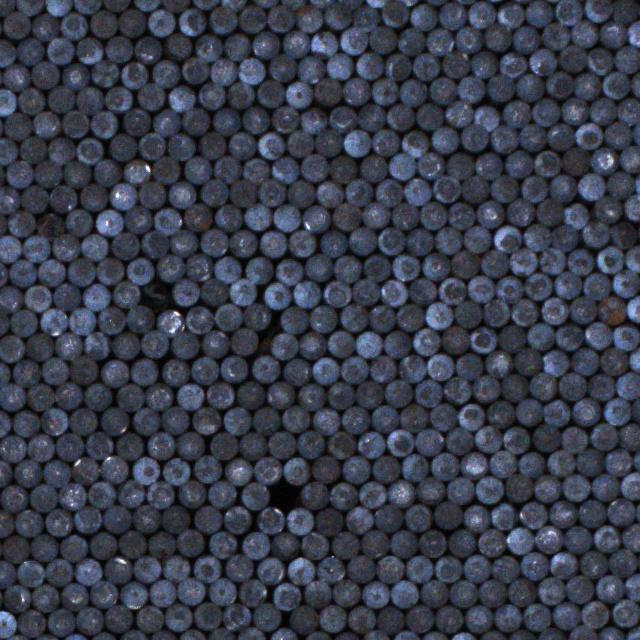tool: (488, 449, 516, 477), (376, 554, 404, 582), (433, 174, 461, 202), (176, 577, 204, 605), (329, 104, 357, 132), (176, 528, 204, 556), (608, 550, 636, 578), (86, 431, 114, 459), (572, 396, 600, 424), (518, 500, 546, 528), (71, 355, 99, 383), (476, 199, 504, 227), (590, 473, 618, 501), (117, 529, 145, 557), (396, 303, 424, 331), (54, 332, 82, 360), (214, 204, 242, 232), (102, 556, 130, 584), (55, 433, 83, 461), (126, 304, 154, 332), (200, 228, 228, 256), (490, 554, 518, 582), (192, 406, 220, 434), (592, 195, 620, 223), (566, 574, 594, 602), (48, 86, 76, 114), (236, 380, 264, 408), (268, 431, 296, 459), (377, 227, 405, 255), (373, 503, 401, 531), (608, 498, 636, 526), (398, 404, 426, 432), (194, 454, 222, 482), (328, 431, 356, 459), (329, 482, 357, 510), (201, 278, 229, 306), (374, 178, 402, 206), (478, 579, 505, 607), (383, 378, 410, 406), (508, 578, 535, 606), (301, 155, 329, 182), (466, 275, 493, 303), (484, 24, 511, 52), (429, 404, 456, 432), (223, 408, 250, 436), (399, 78, 426, 106), (584, 322, 611, 350), (20, 136, 47, 164), (230, 327, 258, 354), (368, 26, 396, 53), (29, 533, 56, 561), (118, 8, 145, 36), (102, 506, 129, 534), (430, 452, 457, 480), (39, 308, 66, 336), (140, 331, 168, 358), (536, 525, 563, 553), (450, 249, 477, 277), (15, 510, 42, 538), (219, 354, 246, 382), (45, 558, 72, 586), (255, 456, 282, 484), (476, 477, 504, 504), (163, 504, 190, 532), (324, 278, 351, 306), (75, 506, 102, 534), (196, 504, 223, 532), (523, 602, 550, 630), (215, 304, 242, 332), (447, 201, 474, 229), (414, 429, 442, 456), (88, 482, 116, 509), (184, 202, 211, 230), (334, 203, 362, 230), (530, 97, 557, 125), (416, 478, 444, 505), (350, 278, 377, 306), (460, 125, 488, 152), (414, 103, 442, 130), (478, 529, 506, 556), (29, 484, 56, 512), (166, 85, 194, 112), (505, 149, 532, 177), (489, 173, 516, 201), (112, 332, 140, 359), (357, 480, 384, 508), (391, 581, 418, 609), (210, 578, 237, 606), (441, 327, 468, 355), (414, 379, 441, 407), (34, 161, 61, 189), (452, 300, 480, 327), (6, 160, 33, 188), (90, 580, 117, 608), (186, 254, 214, 281), (398, 354, 425, 382), (315, 129, 342, 157), (328, 330, 355, 358), (448, 528, 475, 556), (454, 351, 482, 378), (175, 432, 203, 459), (601, 346, 628, 374), (309, 304, 336, 332), (574, 449, 602, 476), (358, 104, 386, 131), (512, 25, 539, 53), (439, 277, 466, 305), (554, 324, 582, 351), (105, 604, 132, 632), (295, 5, 322, 33), (25, 332, 52, 360), (289, 604, 316, 632), (613, 269, 640, 297), (492, 225, 519, 253), (528, 372, 556, 399), (0, 536, 28, 563), (603, 122, 630, 150), (62, 160, 90, 187), (584, 271, 611, 299), (201, 330, 228, 358), (572, 73, 599, 101), (460, 174, 487, 202), (140, 231, 167, 259), (559, 373, 586, 401), (190, 356, 217, 384), (3, 12, 30, 40), (354, 380, 381, 408), (324, 1, 352, 28), (257, 79, 285, 106), (153, 108, 180, 136), (59, 536, 87, 563), (435, 501, 462, 529), (149, 530, 176, 558), (162, 554, 190, 581), (560, 148, 588, 175), (606, 170, 634, 197), (608, 220, 636, 247), (538, 578, 565, 605), (468, 0, 495, 27), (561, 474, 588, 501), (406, 554, 433, 581), (439, 1, 466, 28), (198, 131, 225, 158), (340, 27, 367, 54), (450, 581, 477, 608), (101, 456, 128, 483), (334, 580, 361, 607), (38, 260, 65, 287), (215, 156, 242, 183), (231, 278, 258, 305), (23, 284, 50, 311), (149, 580, 176, 607), (132, 506, 159, 533), (175, 383, 202, 410), (409, 4, 436, 31), (386, 479, 413, 506), (523, 272, 550, 299), (431, 127, 458, 154), (344, 178, 371, 205), (456, 404, 483, 431), (68, 308, 95, 335), (241, 105, 268, 132), (503, 99, 530, 126), (253, 407, 280, 434), (355, 53, 382, 80), (148, 8, 175, 35), (595, 575, 622, 602), (208, 5, 235, 32), (416, 153, 443, 180), (133, 457, 160, 484), (120, 582, 147, 609), (271, 105, 298, 132), (426, 302, 453, 329), (147, 482, 174, 509), (55, 382, 82, 409), (273, 582, 300, 609), (243, 531, 270, 558), (480, 249, 507, 276), (575, 123, 602, 150), (332, 532, 359, 559), (95, 258, 122, 285), (550, 499, 577, 526), (542, 22, 569, 49), (135, 604, 162, 631), (348, 228, 375, 255), (196, 601, 223, 628), (94, 160, 121, 187), (580, 550, 607, 577), (58, 483, 85, 510), (17, 37, 44, 64), (341, 406, 368, 433), (586, 48, 613, 75), (406, 604, 433, 631), (605, 448, 632, 475), (230, 180, 257, 207), (80, 183, 107, 210), (70, 409, 97, 436), (228, 554, 255, 581), (334, 255, 361, 282), (298, 431, 325, 458), (523, 223, 550, 250), (71, 457, 98, 484), (592, 525, 619, 552), (255, 602, 282, 629), (124, 205, 151, 232), (341, 77, 368, 104), (95, 208, 122, 235), (582, 600, 609, 627), (533, 424, 560, 451), (110, 182, 137, 209), (73, 558, 100, 585), (144, 382, 171, 409), (161, 407, 188, 434), (133, 36, 160, 63), (558, 44, 585, 71), (195, 33, 222, 60), (83, 284, 110, 311), (195, 554, 222, 581), (52, 234, 79, 261), (496, 276, 523, 303), (180, 56, 207, 83), (238, 6, 265, 33), (613, 598, 640, 625), (535, 199, 562, 226), (602, 397, 629, 424), (589, 423, 616, 450), (92, 60, 119, 87), (279, 306, 306, 333), (469, 325, 496, 352), (154, 208, 181, 235), (10, 309, 37, 336), (372, 455, 399, 482), (117, 481, 144, 508), (495, 603, 522, 630), (81, 233, 108, 260), (514, 348, 541, 375), (560, 427, 587, 454), (275, 259, 302, 286), (161, 358, 188, 385), (360, 155, 387, 182), (137, 180, 164, 207), (309, 31, 336, 58), (497, 325, 524, 352), (464, 553, 490, 581), (209, 58, 235, 86), (17, 558, 43, 586), (260, 179, 286, 207), (152, 60, 178, 88), (506, 474, 532, 502), (475, 426, 501, 454), (614, 45, 640, 73), (31, 61, 57, 89), (62, 109, 88, 137), (47, 36, 73, 64), (5, 111, 31, 139), (169, 132, 195, 160), (404, 176, 430, 204), (345, 506, 371, 534), (301, 532, 327, 560), (89, 532, 115, 560), (508, 199, 534, 227), (298, 55, 324, 83), (76, 88, 102, 116), (386, 428, 412, 456), (589, 96, 615, 124), (60, 11, 86, 39), (165, 602, 191, 630), (428, 76, 454, 104), (348, 554, 374, 582), (230, 132, 256, 160), (90, 10, 116, 38), (102, 406, 128, 434), (465, 604, 491, 632), (446, 426, 472, 454), (31, 12, 57, 40), (46, 508, 72, 536), (239, 432, 265, 460), (490, 126, 516, 154), (528, 48, 554, 76), (178, 8, 204, 36), (486, 73, 512, 101), (230, 230, 256, 258), (502, 373, 528, 401), (498, 0, 524, 28), (158, 253, 184, 281), (61, 584, 87, 612), (489, 501, 515, 529), (69, 258, 95, 286), (75, 36, 101, 64), (282, 30, 308, 58), (170, 230, 196, 258), (112, 279, 138, 307), (208, 482, 236, 508), (164, 456, 190, 484), (86, 383, 112, 411), (364, 254, 390, 282), (512, 298, 538, 326), (101, 360, 127, 388), (564, 524, 590, 552), (138, 132, 164, 160), (75, 606, 101, 634), (187, 306, 213, 334), (242, 481, 268, 509), (402, 129, 428, 157), (598, 296, 624, 324), (362, 529, 388, 556), (372, 129, 398, 156), (104, 37, 131, 63), (472, 376, 499, 402), (520, 553, 546, 580), (184, 158, 210, 185), (435, 228, 461, 255), (112, 233, 138, 260), (42, 408, 68, 435), (50, 184, 76, 211), (402, 454, 428, 481), (418, 528, 444, 555), (391, 529, 417, 556), (526, 322, 552, 349), (305, 255, 331, 282), (53, 283, 79, 310), (22, 184, 48, 211), (14, 459, 40, 486), (571, 297, 597, 324), (149, 433, 175, 460), (305, 581, 331, 608), (515, 399, 541, 426), (550, 552, 576, 579), (167, 182, 194, 208), (388, 152, 414, 179), (31, 585, 57, 612), (380, 278, 406, 305), (132, 556, 159, 582), (292, 280, 318, 307), (413, 54, 439, 81), (386, 103, 412, 130), (342, 456, 368, 483), (507, 526, 533, 553), (172, 332, 198, 359), (109, 134, 135, 161), (412, 329, 438, 356), (393, 253, 419, 280), (32, 110, 58, 137), (171, 279, 198, 305), (482, 300, 508, 327), (613, 324, 640, 350), (201, 180, 228, 206), (358, 431, 385, 457), (269, 54, 295, 81), (445, 101, 472, 127), (10, 261, 36, 288), (49, 137, 75, 164), (548, 449, 574, 476), (422, 581, 448, 608), (544, 398, 570, 425), (313, 407, 339, 434), (289, 557, 315, 584), (372, 78, 398, 105), (302, 205, 328, 232), (370, 356, 396, 383), (301, 482, 327, 509), (521, 174, 547, 201), (253, 32, 280, 58), (560, 97, 586, 124), (486, 399, 512, 426), (328, 382, 354, 409), (456, 75, 482, 102), (44, 459, 70, 486), (210, 432, 237, 458), (372, 406, 398, 433), (382, 331, 408, 358), (362, 582, 388, 609), (137, 83, 163, 110), (549, 174, 575, 201), (510, 249, 536, 276), (216, 255, 242, 282), (22, 235, 48, 262), (518, 125, 544, 152), (48, 608, 74, 635), (462, 226, 488, 253), (152, 158, 178, 185), (118, 433, 144, 460), (20, 609, 46, 636), (41, 357, 67, 384), (422, 252, 448, 279), (420, 202, 446, 229), (4, 585, 30, 612), (542, 298, 568, 325), (61, 64, 88, 90), (288, 130, 314, 157), (104, 86, 131, 112), (205, 382, 232, 408), (253, 356, 280, 382), (392, 203, 419, 229), (315, 508, 341, 535), (78, 136, 104, 163), (552, 601, 578, 628), (8, 210, 35, 236), (282, 457, 308, 484), (398, 27, 424, 54), (225, 507, 251, 534), (288, 181, 314, 208), (579, 173, 605, 200), (408, 278, 435, 304), (579, 499, 605, 526), (121, 62, 147, 89), (601, 72, 628, 98), (228, 81, 254, 108), (247, 256, 273, 283), (316, 555, 342, 582), (225, 603, 252, 629), (542, 349, 568, 376), (484, 349, 510, 376), (454, 26, 480, 53), (98, 306, 124, 333), (516, 73, 542, 100), (546, 71, 572, 98), (570, 21, 596, 48), (164, 32, 190, 59), (321, 230, 347, 257), (260, 557, 286, 584), (259, 132, 285, 159), (446, 153, 473, 179), (547, 123, 573, 150), (583, 220, 610, 246), (282, 406, 308, 433), (130, 359, 156, 386), (566, 249, 592, 276), (381, 0, 408, 26), (14, 360, 40, 387), (126, 257, 153, 283), (84, 333, 110, 360), (596, 247, 622, 274), (314, 77, 340, 104), (552, 224, 578, 251), (2, 63, 28, 90), (272, 332, 298, 359), (241, 580, 267, 607), (464, 505, 490, 532), (588, 373, 614, 400), (351, 4, 377, 31), (242, 158, 269, 184), (244, 304, 271, 330), (157, 308, 183, 335), (300, 106, 327, 132), (268, 382, 295, 408), (268, 5, 294, 32), (124, 160, 150, 187), (27, 434, 52, 462), (118, 382, 143, 410), (437, 604, 462, 632), (65, 208, 90, 236), (331, 156, 356, 184), (300, 332, 325, 360), (288, 508, 314, 534), (259, 507, 285, 533), (182, 108, 208, 134), (436, 555, 462, 581), (554, 272, 580, 298), (245, 204, 271, 230), (461, 452, 487, 478), (342, 356, 368, 382), (534, 476, 560, 502), (238, 57, 264, 83), (343, 130, 369, 156), (446, 478, 472, 504), (524, 0, 550, 26), (214, 108, 240, 134), (18, 88, 44, 114), (325, 54, 351, 80), (570, 348, 596, 374), (444, 378, 470, 404), (348, 605, 374, 631), (590, 147, 616, 173), (180, 482, 206, 508), (210, 532, 236, 558), (534, 151, 560, 177), (312, 456, 338, 482), (377, 606, 403, 632), (286, 82, 312, 108), (363, 202, 389, 228), (539, 247, 565, 273), (316, 180, 342, 206), (368, 306, 394, 332), (274, 205, 300, 231), (476, 152, 502, 178), (502, 428, 528, 454), (290, 231, 316, 257), (405, 504, 431, 530), (272, 158, 298, 184), (224, 34, 250, 60), (124, 108, 150, 134), (198, 84, 224, 110), (264, 282, 290, 308), (312, 358, 338, 384), (300, 384, 326, 410), (260, 232, 286, 258), (273, 532, 299, 558), (442, 51, 468, 77), (474, 104, 500, 130), (562, 202, 588, 228), (599, 21, 625, 47), (133, 407, 158, 434), (227, 457, 252, 484), (471, 52, 496, 79), (341, 305, 366, 332), (92, 110, 117, 137), (407, 229, 432, 256), (27, 382, 52, 409), (384, 54, 409, 81), (554, 0, 581, 25), (321, 605, 346, 632), (0, 485, 25, 512), (428, 27, 453, 54), (284, 359, 309, 386), (0, 435, 24, 463), (616, 371, 640, 399), (428, 352, 453, 378), (355, 331, 380, 357), (13, 411, 39, 436), (518, 452, 544, 477), (501, 53, 526, 79), (0, 382, 24, 409), (617, 96, 640, 123), (0, 334, 22, 362), (618, 423, 640, 450), (0, 285, 22, 312), (0, 235, 21, 263), (584, 0, 612, 21), (614, 0, 640, 22), (620, 471, 640, 499), (620, 145, 640, 171), (622, 523, 640, 551), (0, 186, 18, 212), (0, 138, 16, 165), (624, 194, 640, 221), (625, 573, 640, 601), (568, 625, 596, 640), (0, 609, 15, 636), (0, 39, 15, 66), (625, 245, 640, 272), (238, 626, 266, 640), (72, 0, 100, 14), (0, 89, 14, 116), (0, 560, 14, 587), (16, 0, 43, 14), (626, 294, 640, 321), (46, 0, 71, 15), (270, 627, 298, 640), (536, 627, 564, 640), (208, 627, 235, 640), (627, 21, 640, 48), (598, 627, 625, 640), (0, 510, 13, 537), (628, 347, 640, 373), (133, 0, 161, 11), (178, 629, 206, 640), (0, 460, 11, 488), (121, 629, 148, 640), (163, 0, 190, 11), (391, 629, 418, 640), (363, 629, 390, 640), (509, 629, 536, 640), (630, 69, 640, 98), (102, 0, 128, 11), (221, 0, 247, 11), (0, 410, 10, 438), (151, 630, 178, 640), (481, 630, 507, 640), (631, 396, 640, 424), (193, 0, 220, 9), (306, 631, 332, 640), (280, 0, 306, 9), (0, 362, 9, 388), (338, 0, 363, 9), (0, 307, 8, 335), (421, 632, 448, 640), (335, 632, 362, 640), (308, 0, 335, 8), (0, 0, 14, 15), (91, 632, 117, 640), (632, 119, 640, 145), (451, 632, 476, 640), (252, 0, 280, 7), (0, 261, 7, 288), (627, 626, 640, 640), (633, 448, 640, 474), (365, 0, 390, 7), (62, 633, 87, 640), (4, 634, 30, 640), (33, 634, 59, 640), (635, 168, 640, 197), (394, 0, 422, 5), (421, 0, 448, 5), (0, 211, 5, 237)
tool_b: (140, 281, 172, 310)
